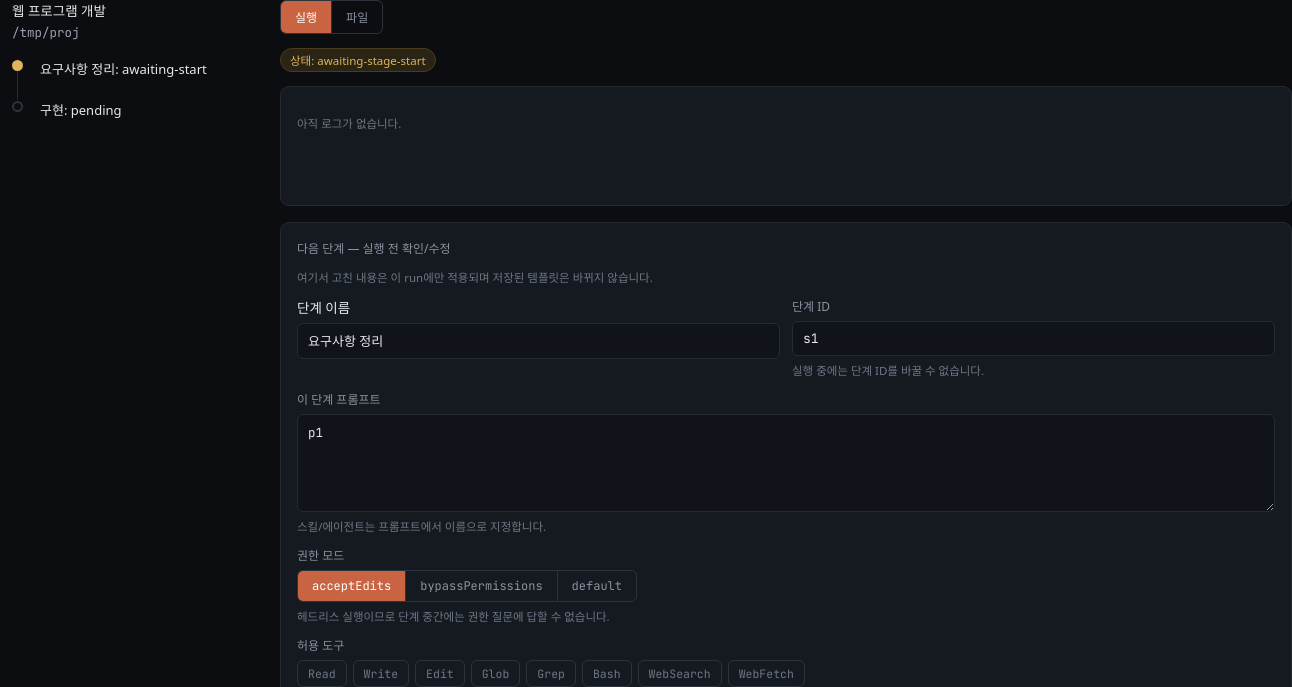
Scenario: PipelineRun › replaces the draft with the next stage's values when the index advances
Replace the text in the text box labelled "이 단계 프롬프트" with "이전 단계 초안": (786, 462) x1=297 y1=414 x2=1275 y2=512
(page scrolled)
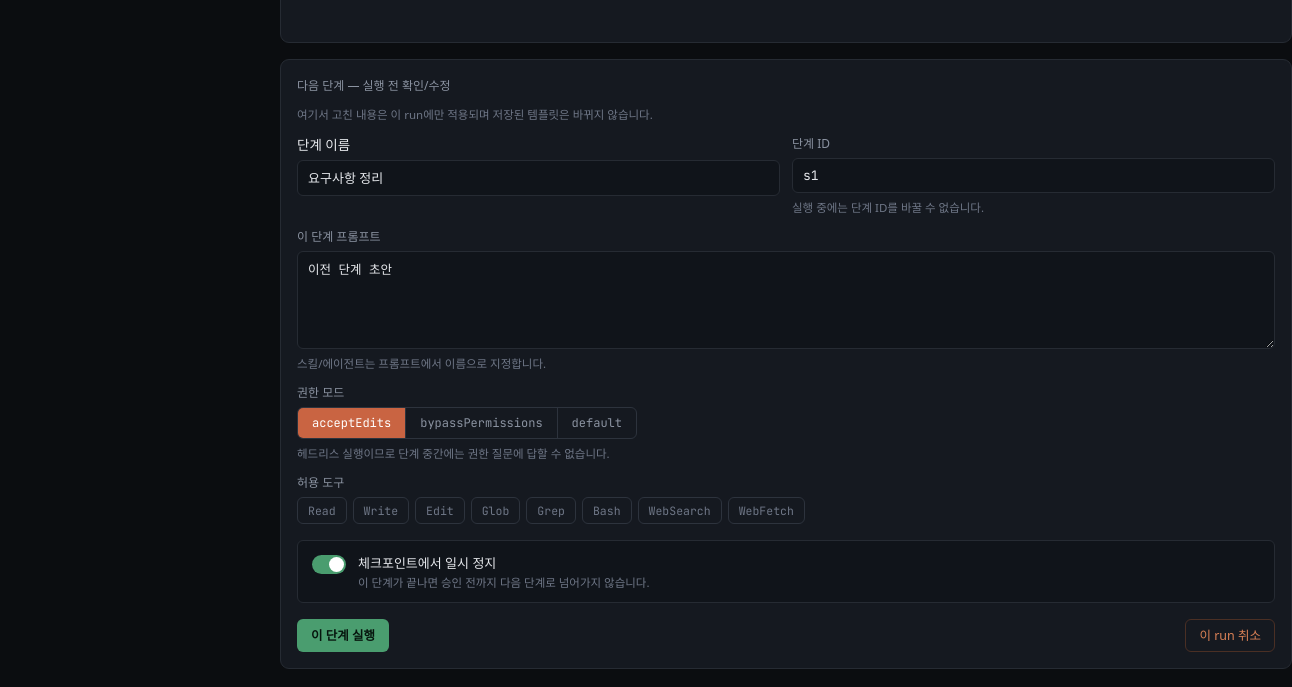
Click the button "이 단계 실행": (343, 635) x1=297 y1=618 x2=389 y2=652
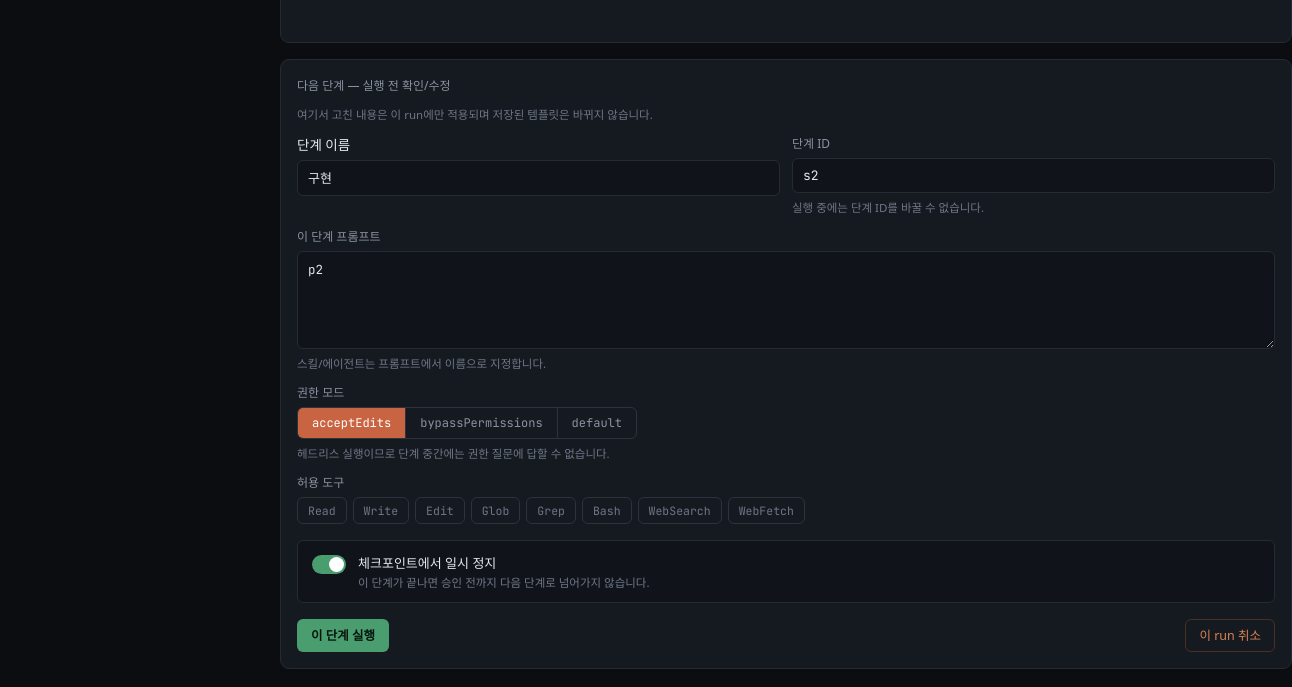
Expected: the text box labelled "이 단계 프롬프트" holds "p2", x1=297 y1=250 x2=1275 y2=348
Expected: the field labelled "단계 ID" holds "s2", x1=792 y1=158 x2=1275 y2=192
